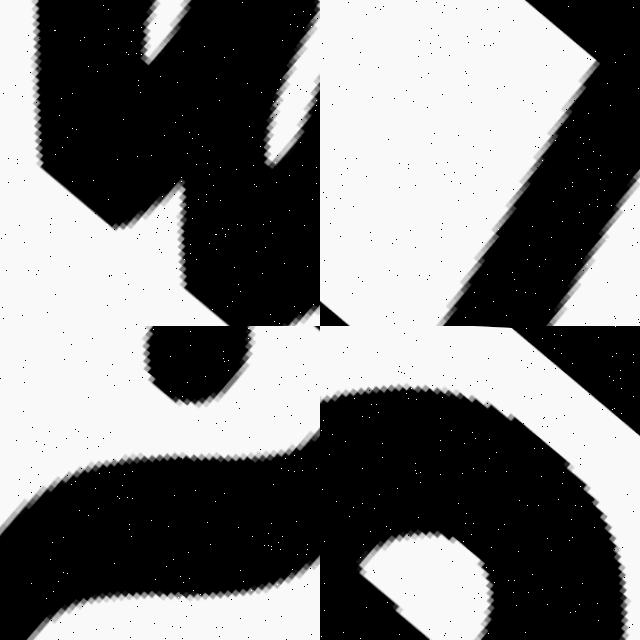E: (320, 383, 629, 640)
F: (320, 0, 640, 326)
S: (0, 326, 320, 640)
W: (0, 0, 320, 326)
